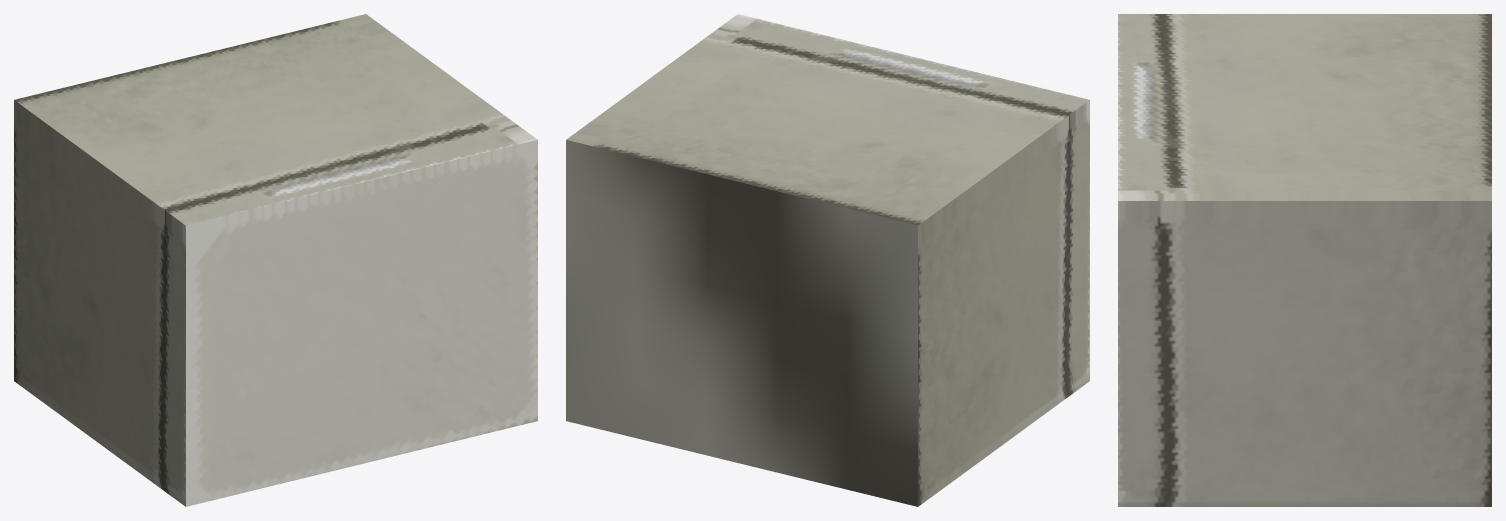
Rendered from pz_g016_chest_freezer.obj.
3 renders of one model, left to right at view 1: azimuth 30°, elevation 25°; view 2: azimuth 150°, elevation 25°; view 3: azimuth 270°, elevation 25°, orthographic. The views are drawn at different scales.
Parts seen in each view (by area): view 1: native_component_0_z+, native_component_0_y+, native_component_0_x-; view 2: native_component_0_z-, native_component_0_y+, native_component_0_x-; view 3: native_component_0_x+, native_component_0_y+.
Part boxes in pixels (x1=…): native_component_0_z+: x1=186, y1=140, x2=537, y2=506; native_component_0_y+: x1=14, y1=14, x2=537, y2=225; native_component_0_x-: x1=14, y1=100, x2=185, y2=506; native_component_0_z-: x1=566, y1=140, x2=917, y2=506; native_component_0_y+: x1=566, y1=14, x2=1089, y2=225; native_component_0_x-: x1=918, y1=100, x2=1089, y2=506; native_component_0_x+: x1=1118, y1=201, x2=1491, y2=506; native_component_0_y+: x1=1118, y1=14, x2=1491, y2=200.
Size of the model in its own units: 0.9648 by 0.7368 by 0.8159.
Materials: 1 (1 with a texture image).
